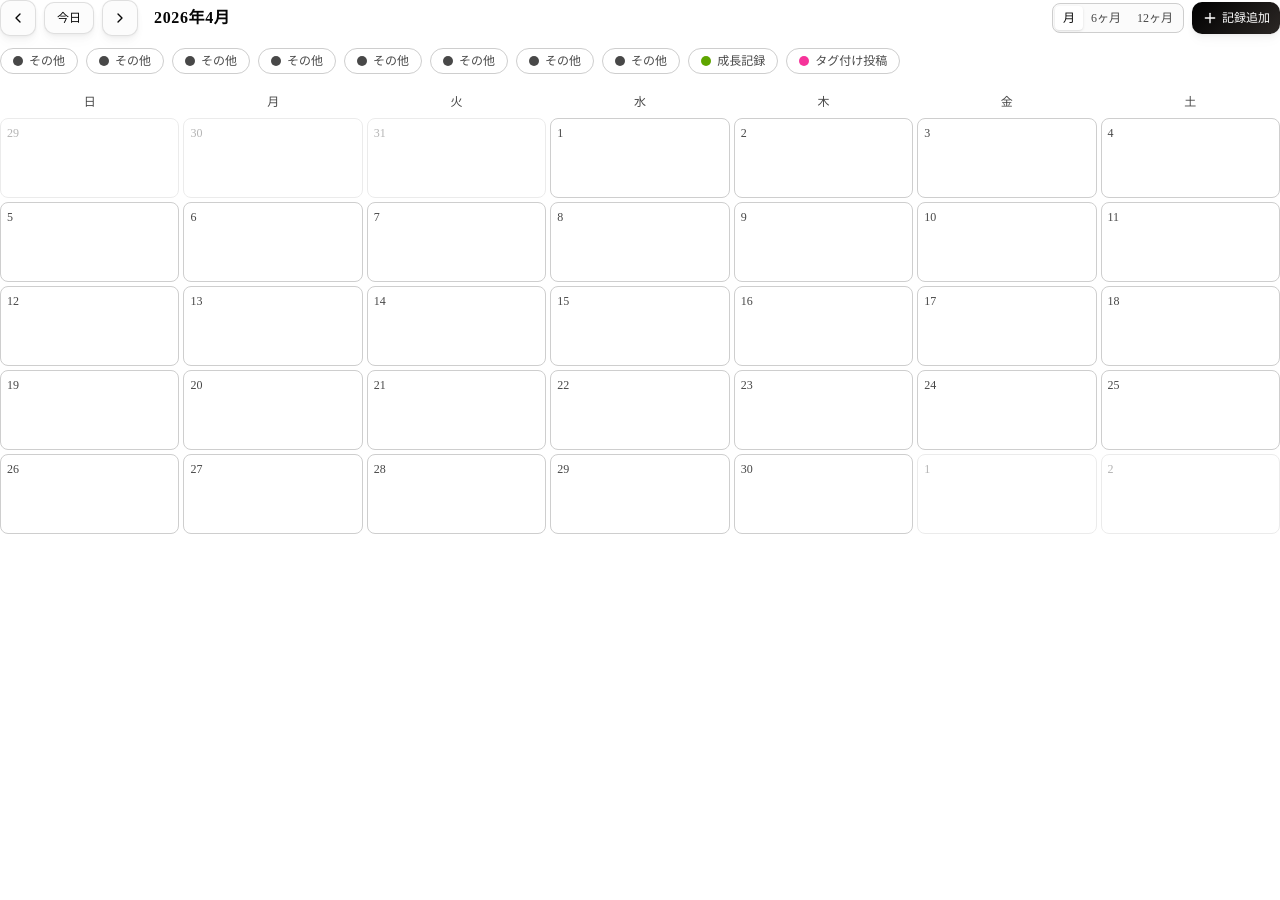
Scenario: BonsaiCalendarView - 日付クリック → sheet › 日付セルをクリックすると Sheet（dialog）が開く
Click the 1st cell "29" at (90, 158), box [0,118,179,198]
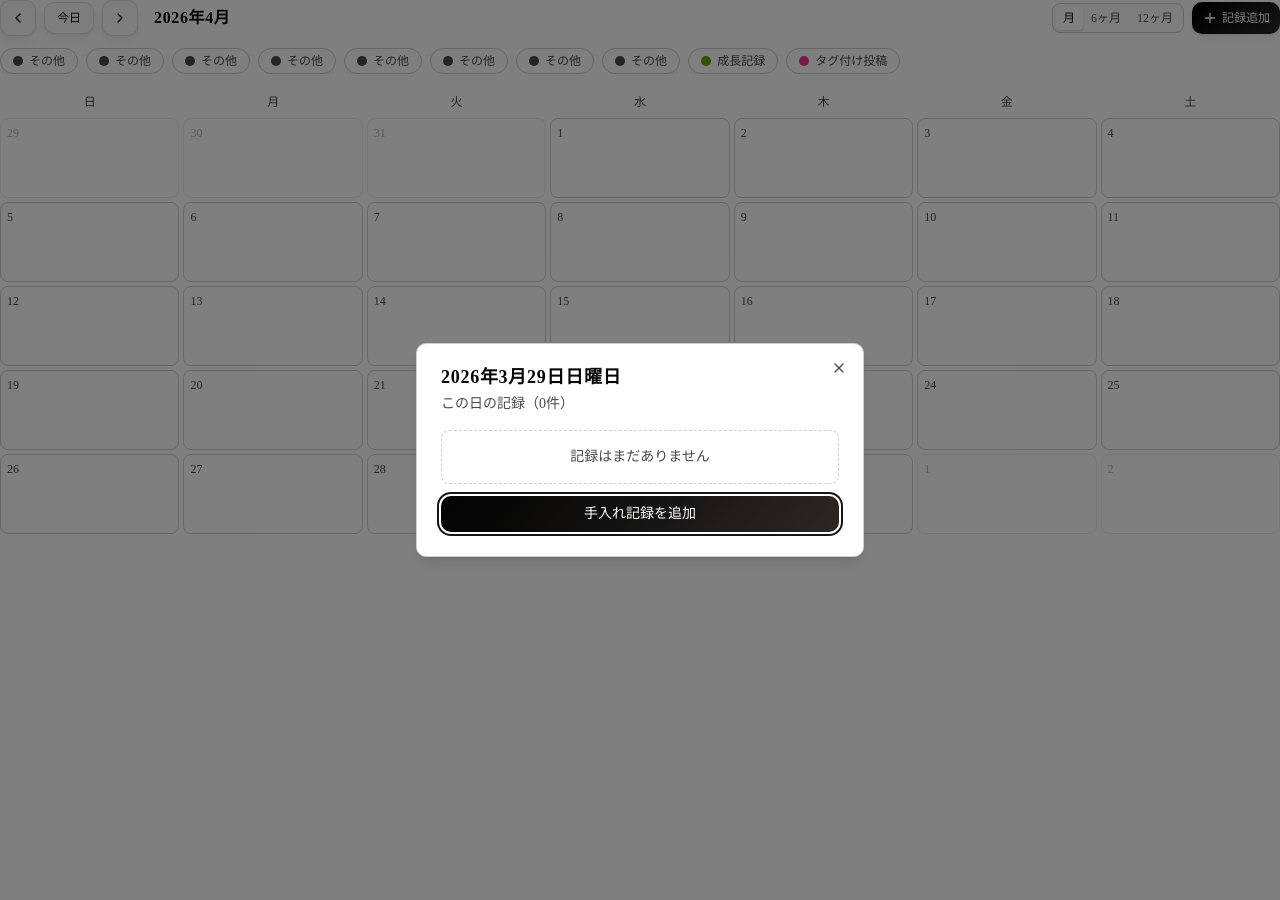
Expected: the dialog is shown, [416,343,864,557]
